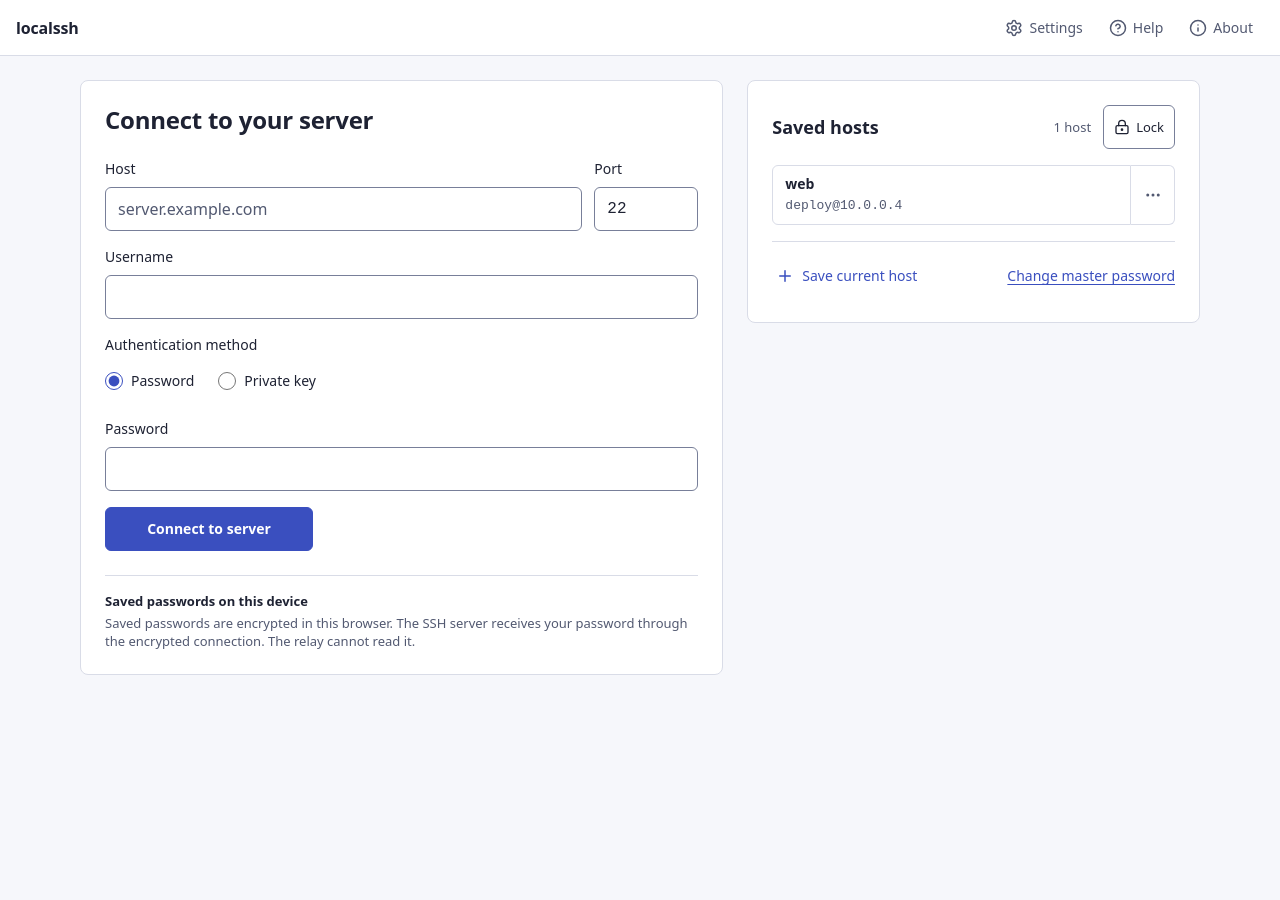
App › changes the active host override with the text size key
The width and height of the screenshot is (1280, 900).
Later steps or results of the test are not shown.
Click the button with aria-label "web:" at (813, 206), box [772,165,1131,225]
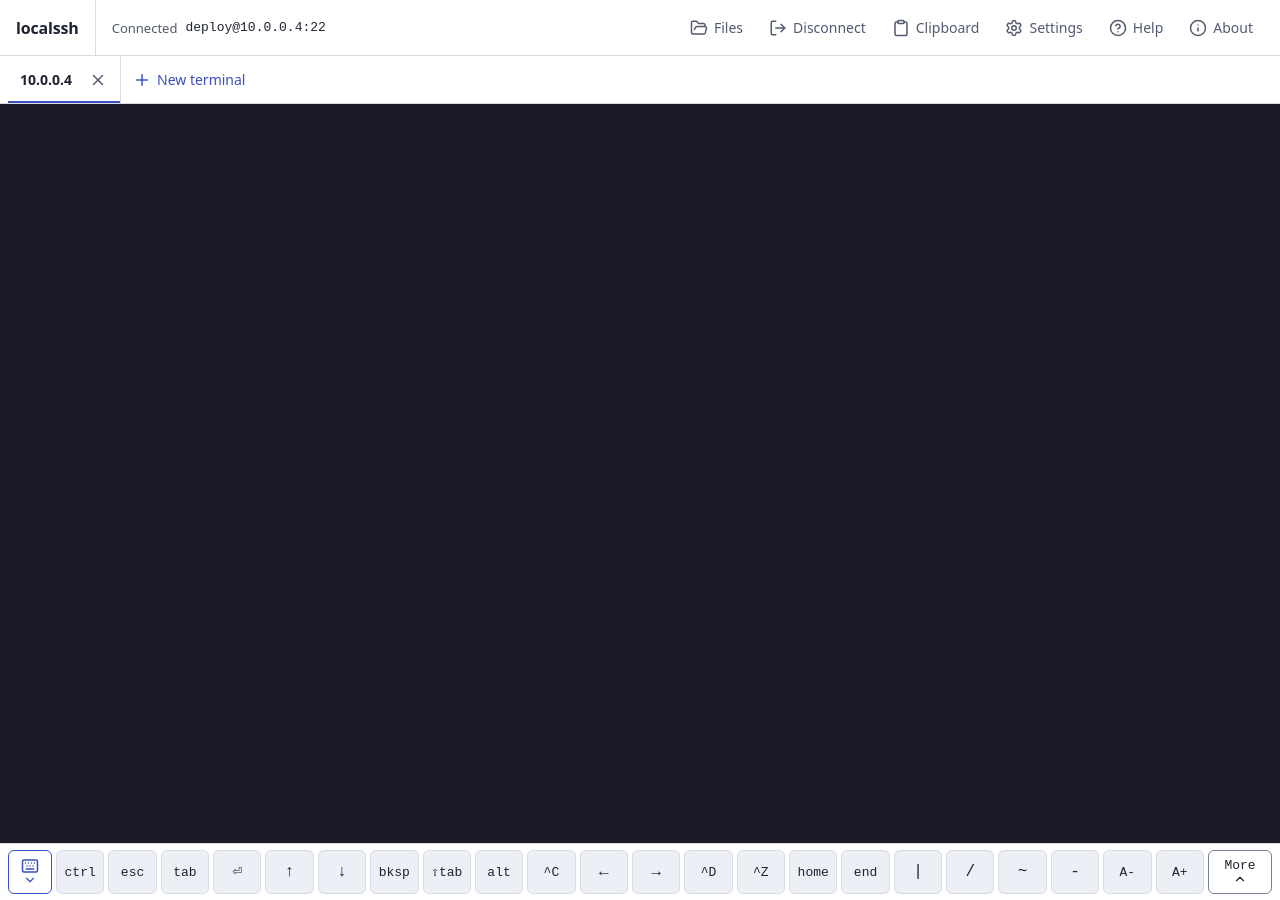
Check: the element named "Terminal keys" is shown, box [0,843,1279,899]
